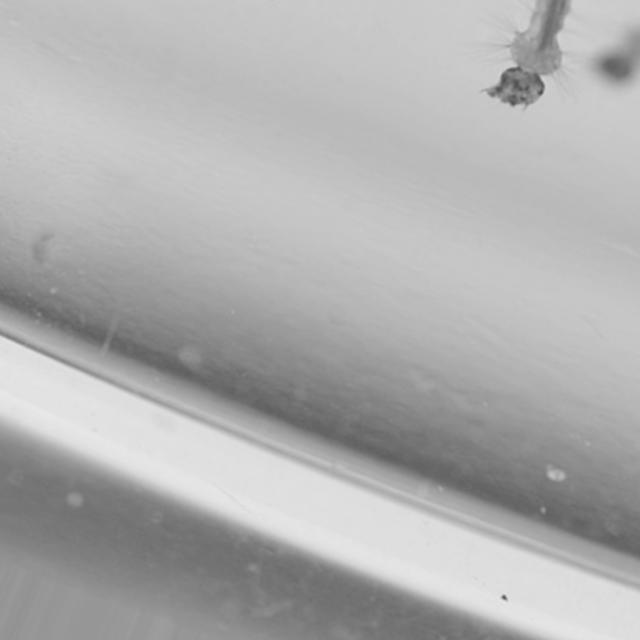larvas: (488, 0, 574, 106), (604, 15, 640, 85)
